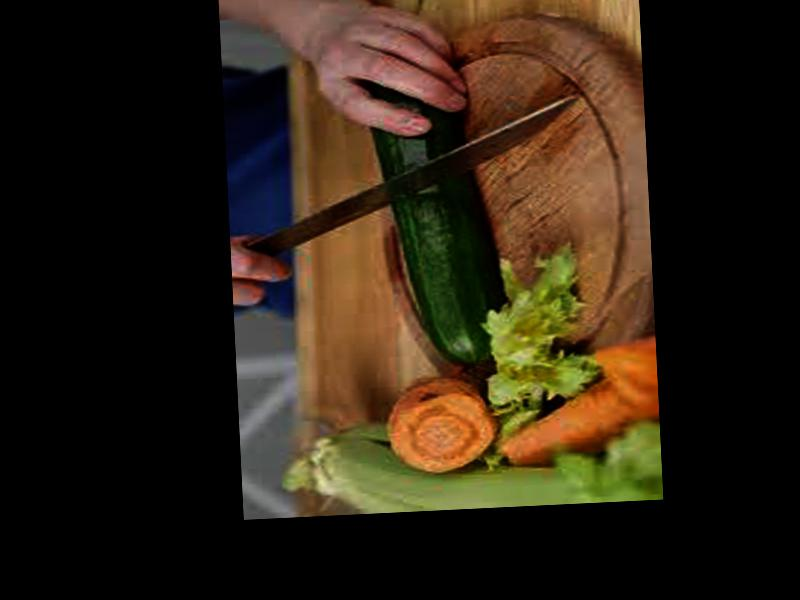Cucumber: (368, 77, 501, 370)
